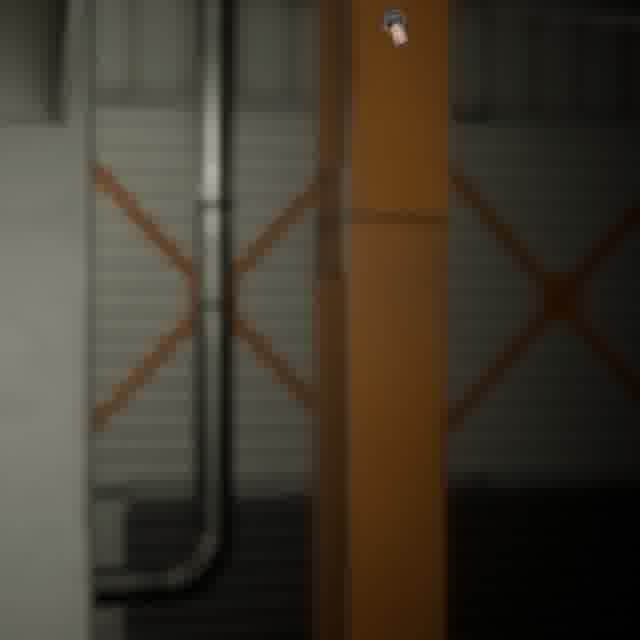bolt: (376, 3, 412, 53)
